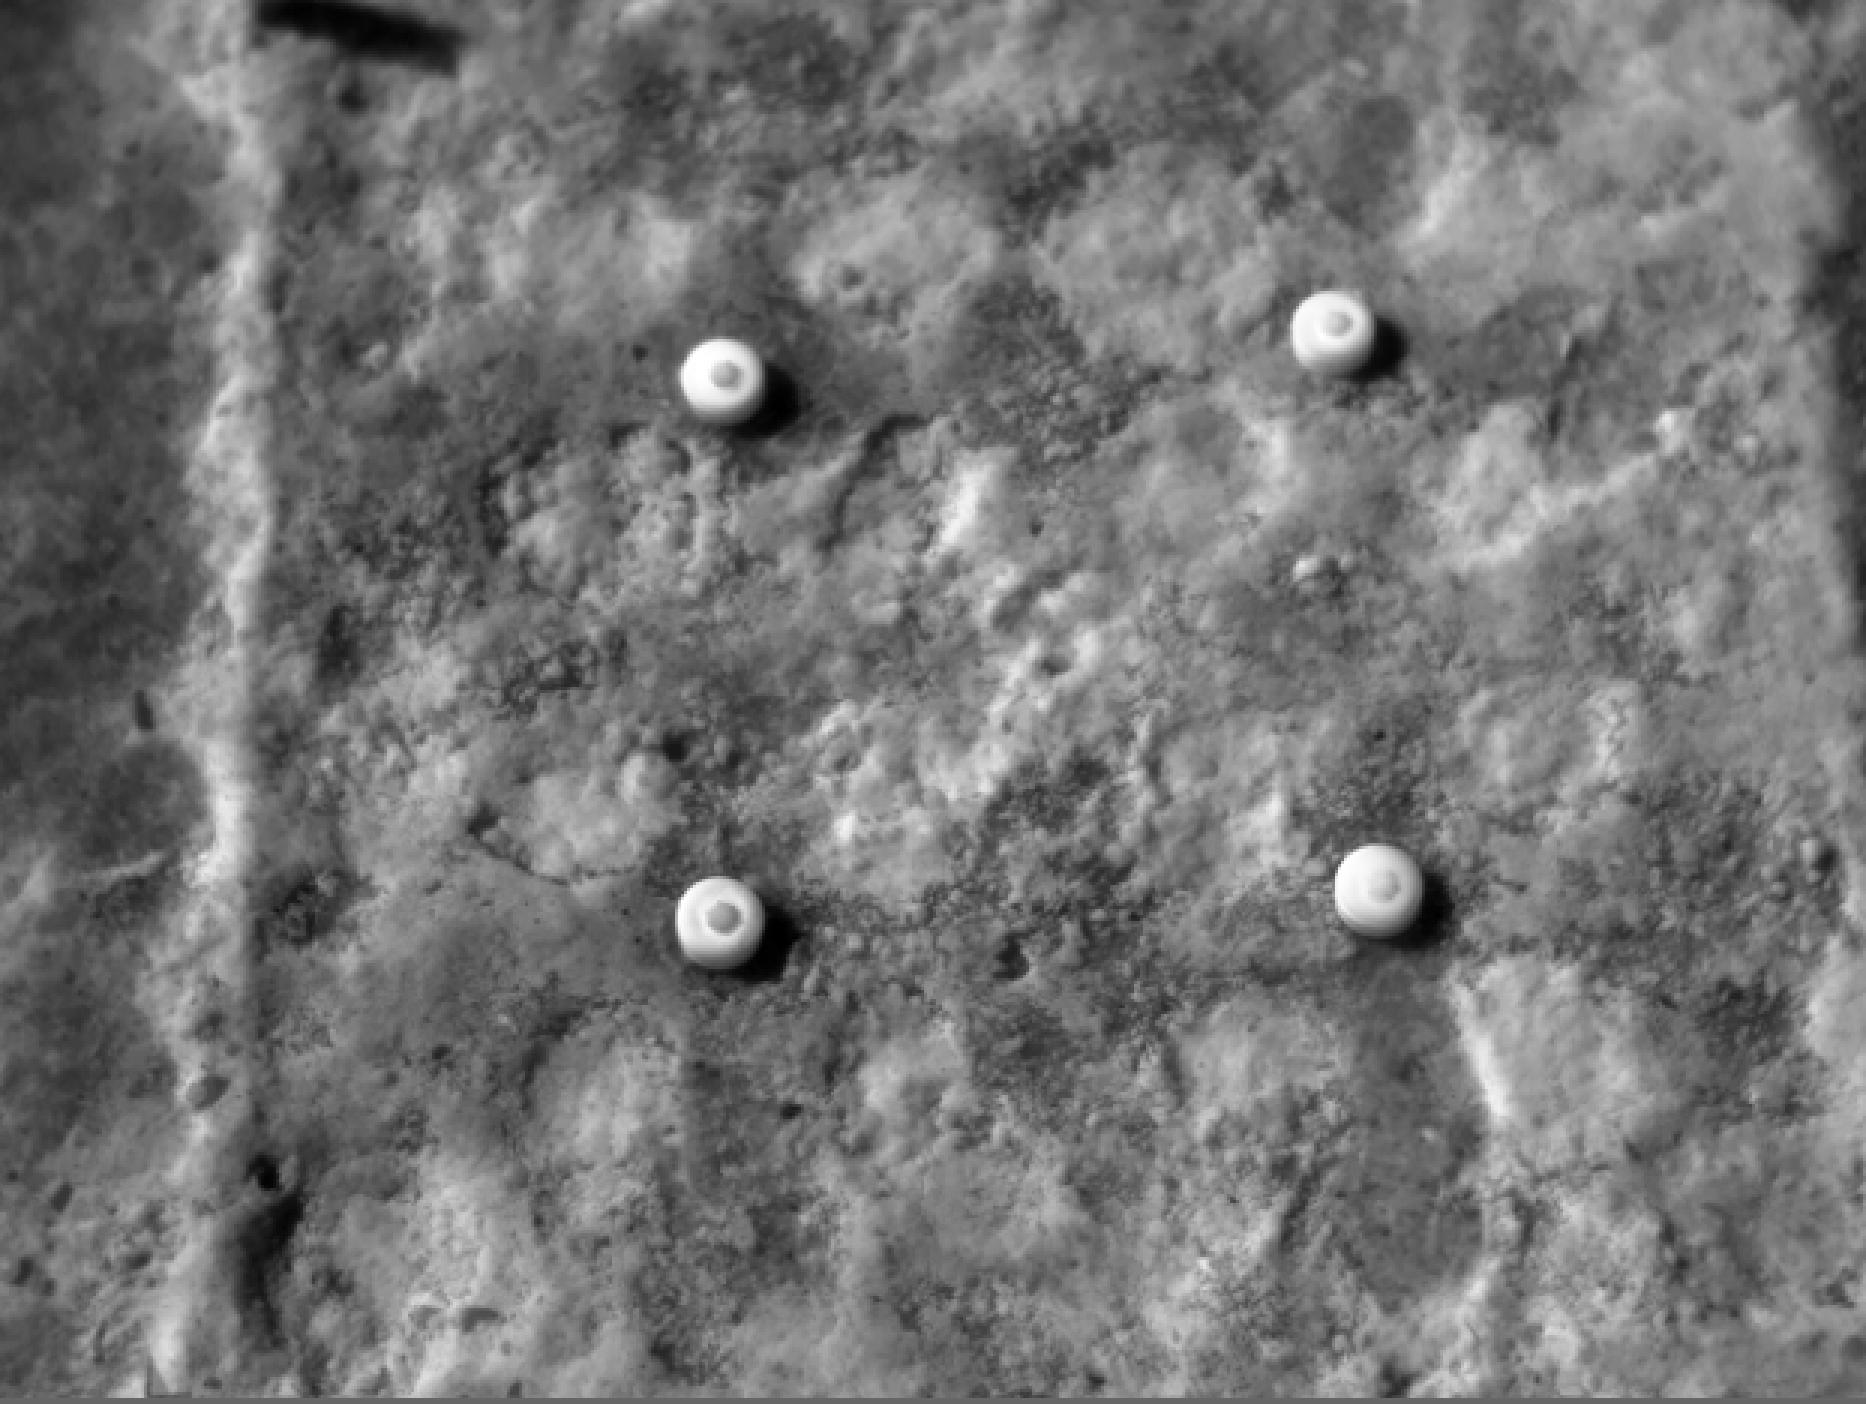mines-gjV8: (665, 872, 779, 975), (1328, 838, 1435, 936), (1303, 288, 1384, 395), (679, 332, 769, 419)
